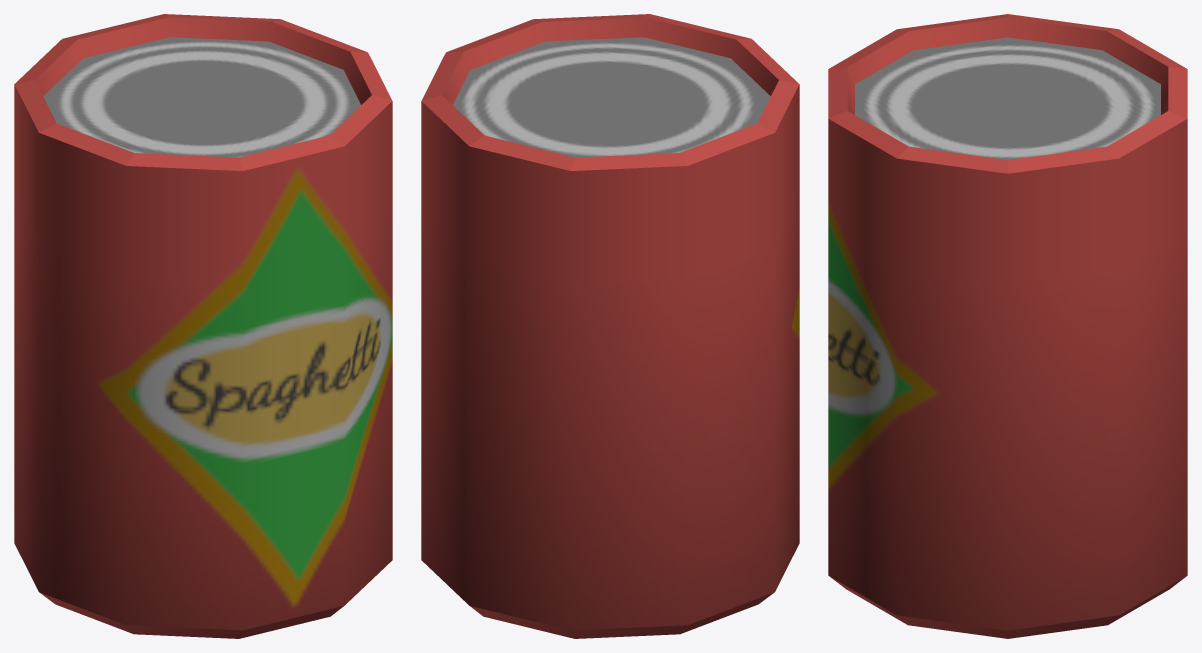
File: Canned_06.fbx
3 views of the same model, side by side, from view 1: azimuth 30°, elevation 25°; view 2: azimuth 150°, elevation 25°; view 3: azimuth 270°, elevation 25° (orthographic).
Visible parts, largest first — view 1: Canned_06; view 2: Canned_06; view 3: Canned_06.
Boxes of the visible parts, x1=… form: Canned_06: x1=14, y1=14, x2=392, y2=638; Canned_06: x1=421, y1=14, x2=799, y2=638; Canned_06: x1=828, y1=14, x2=1187, y2=638.
Bounding box in the file's own units: 12.34 × 17.22 × 11.74.
